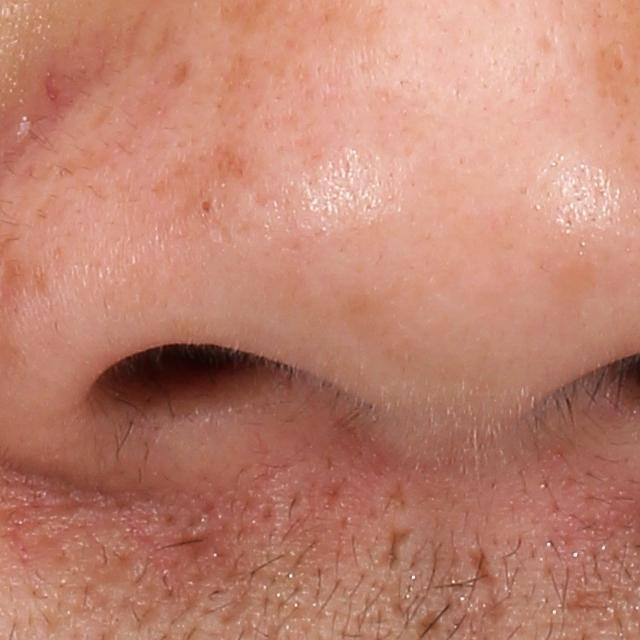atrophic_scar: (372, 525, 420, 572), (470, 542, 501, 595), (383, 479, 409, 514), (417, 610, 444, 638), (536, 28, 558, 56)
comedo: (196, 197, 216, 220)
melasma: (146, 139, 248, 196), (164, 59, 196, 94)
